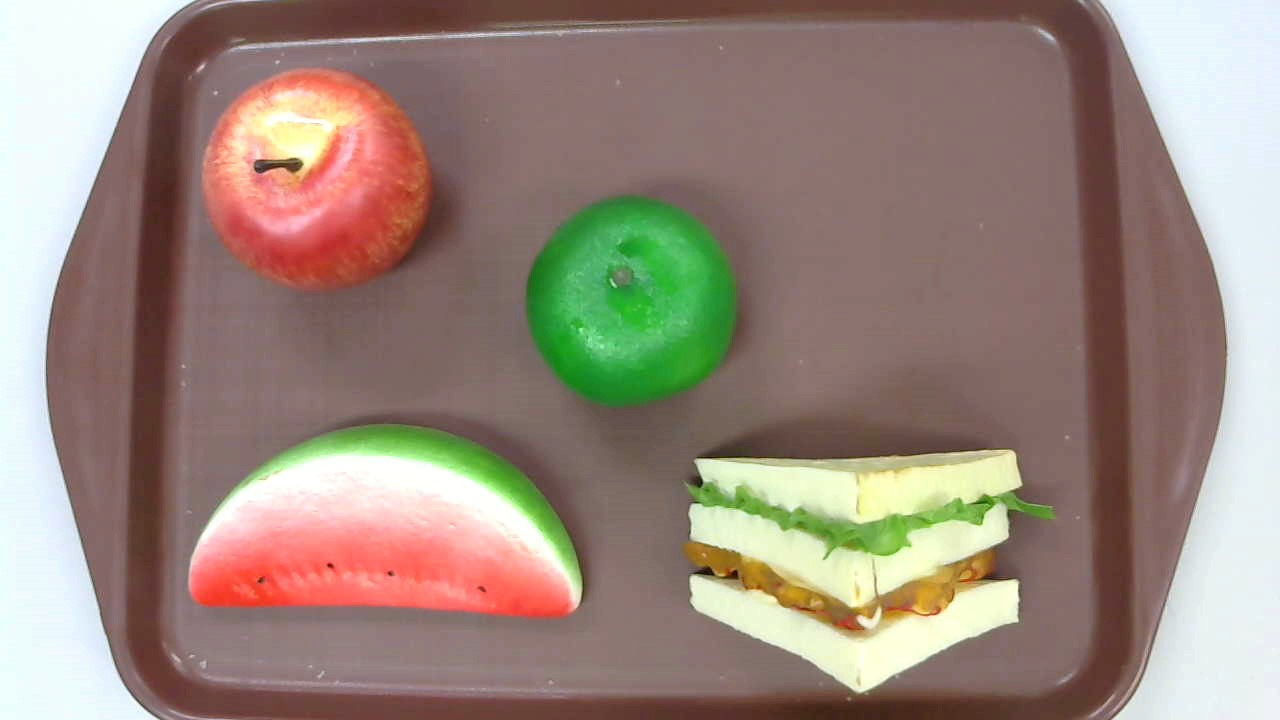green orange: (525, 194, 737, 409)
red apple: (201, 67, 432, 292)
sandwich: (683, 447, 1058, 697)
watermelon: (186, 422, 584, 618)
